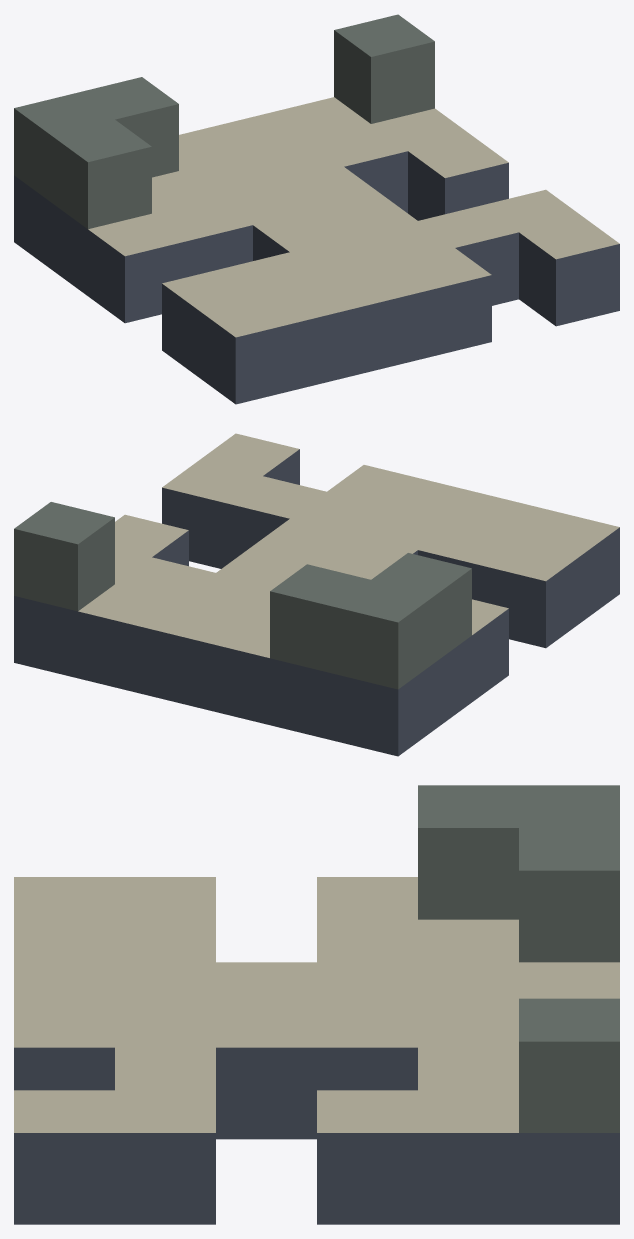
3 views of the same model, one above another, from view 1: azimuth 30°, elevation 25°; view 2: azimuth 150°, elevation 25°; view 3: azimuth 270°, elevation 25° (orthographic). The views are drawn at different scales.
Visible parts, largest first — view 1: 8.1; view 2: 8.1; view 3: 8.1.
Boxes of the visible parts, x1,y1,x2,y2 form: 8.1: [14, 14, 619, 404]; 8.1: [14, 433, 619, 756]; 8.1: [14, 785, 619, 1224].
Bounding box in the file's own units: 600 × 200 × 600.
